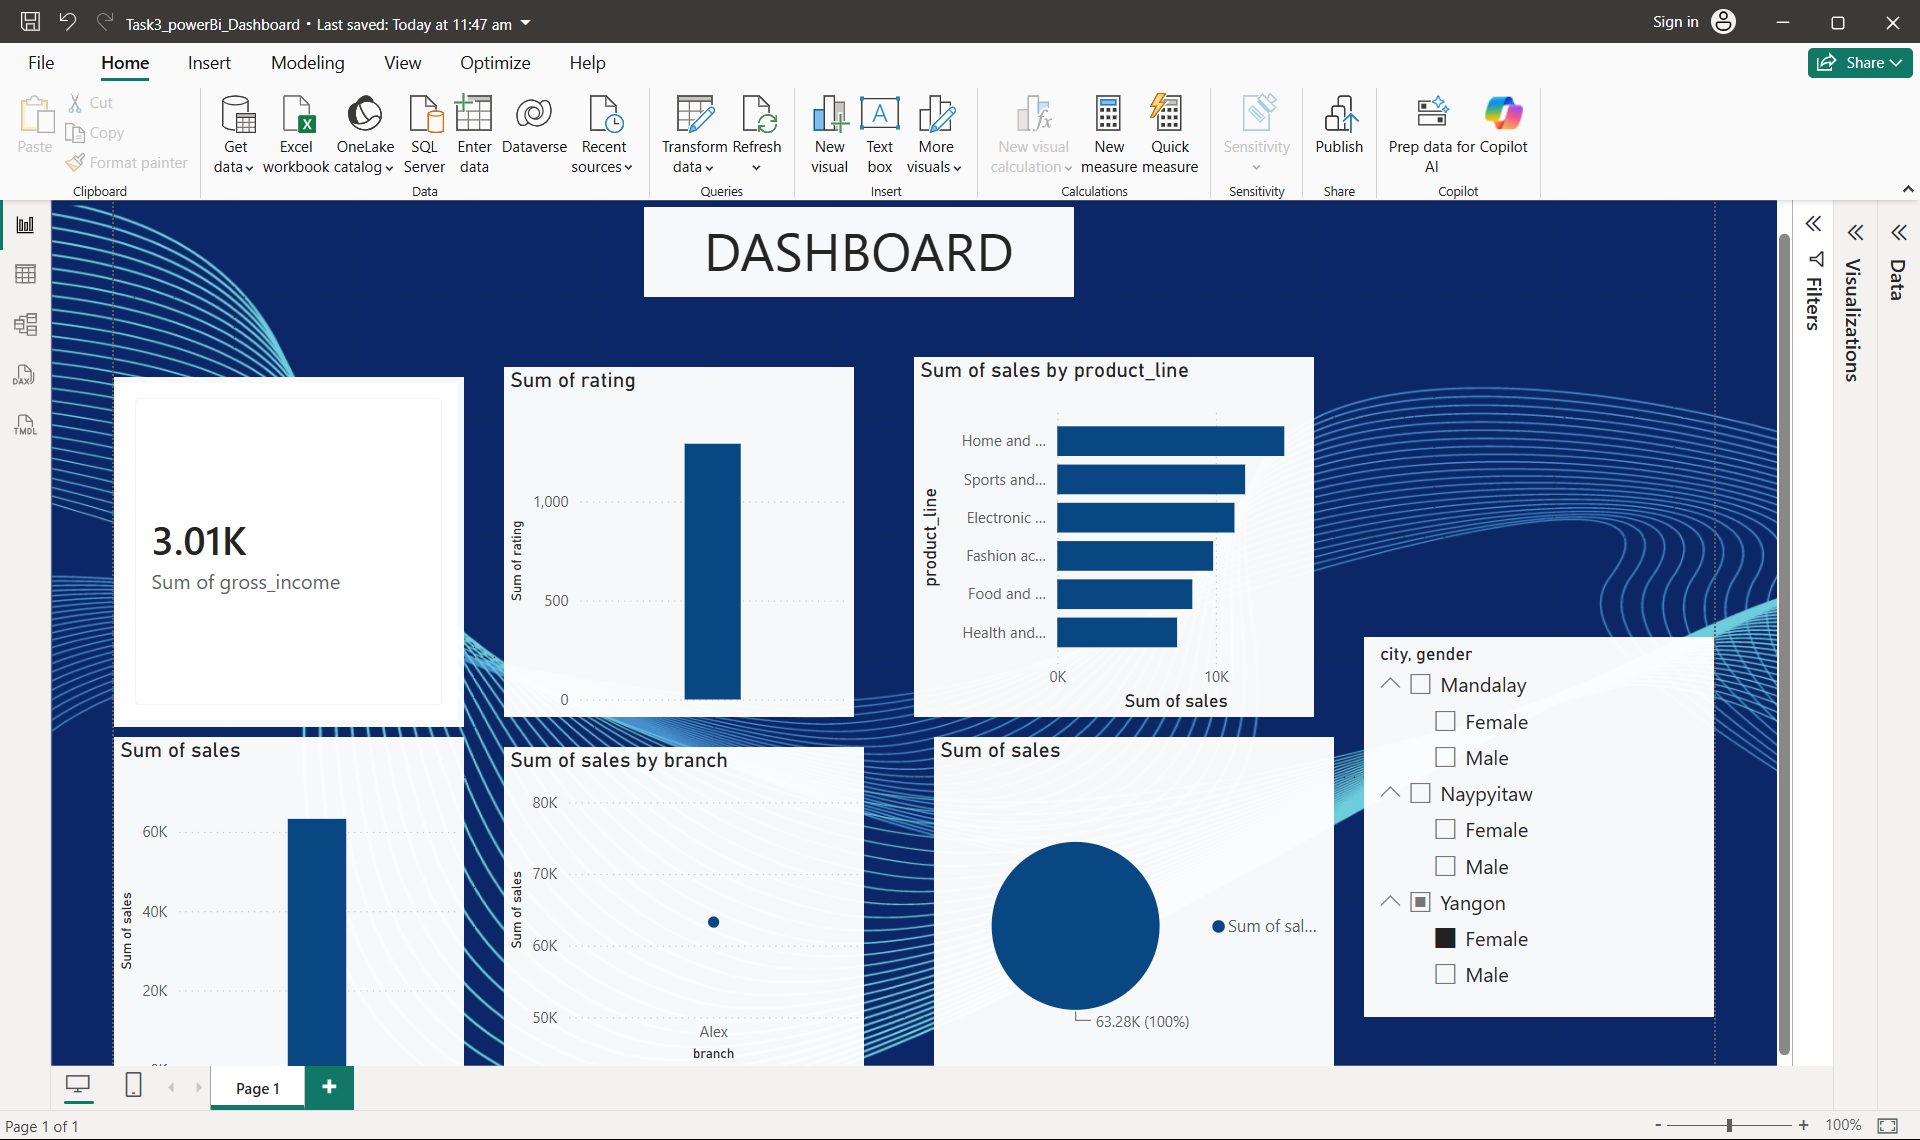

The dashboard page shown, as its layout file describes it:
{"tool":"powerbi","page":{"name":"Page 1","canvas":[1280,720],"ordinal":0},"visuals":[{"type":"textbox","box":[424,24,344,72],"z":500},{"type":"cardVisual","fields":{"Data":["Sum(cleaned_supermarket.gross_income)"]},"box":[0,160,280,280],"z":1000},{"type":"clusteredColumnChart","fields":{"Y":["Sum(cleaned_supermarket.sales)"]},"box":[0,448,280,280],"z":2000},{"type":"clusteredColumnChart","fields":{"Y":["Sum(cleaned_supermarket.rating)"]},"box":[312,152,280,280],"z":3000},{"type":"clusteredBarChart","fields":{"Category":["cleaned_supermarket.product_line"],"Y":["Sum(cleaned_supermarket.sales)"]},"box":[640,144,320,288],"z":4000},{"type":"pieChart","fields":{"Y":["Sum(cleaned_supermarket.sales)"]},"box":[656,448,320,272],"z":5000},{"type":"lineChart","fields":{"Category":["cleaned_supermarket.branch"],"Y":["Sum(cleaned_supermarket.sales)"]},"box":[312,456,288,256],"z":6000},{"type":"slicer","fields":{"Values":["cleaned_supermarket.city","cleaned_supermarket.gender"]},"box":[1000,368,280,304],"z":7000}]}

Visuals, with their boxes on the page's 1280x720 design canvas (x1, y1, x2, y2). These are canvas units, not pixel positions in the 1920x1140 screenshot, which may show the page scaled, cropped or inside an application window:
textbox: region(424, 24, 768, 96)
cardVisual - Sum(cleaned_supermarket.gross_income): region(0, 160, 280, 440)
clusteredColumnChart - Sum(cleaned_supermarket.sales): region(0, 448, 280, 728)
clusteredColumnChart - Sum(cleaned_supermarket.rating): region(312, 152, 592, 432)
clusteredBarChart - cleaned_supermarket.product_line x Sum(cleaned_supermarket.sales): region(640, 144, 960, 432)
pieChart - Sum(cleaned_supermarket.sales): region(656, 448, 976, 720)
lineChart - cleaned_supermarket.branch x Sum(cleaned_supermarket.sales): region(312, 456, 600, 712)
slicer - cleaned_supermarket.city x cleaned_supermarket.gender: region(1000, 368, 1280, 672)
